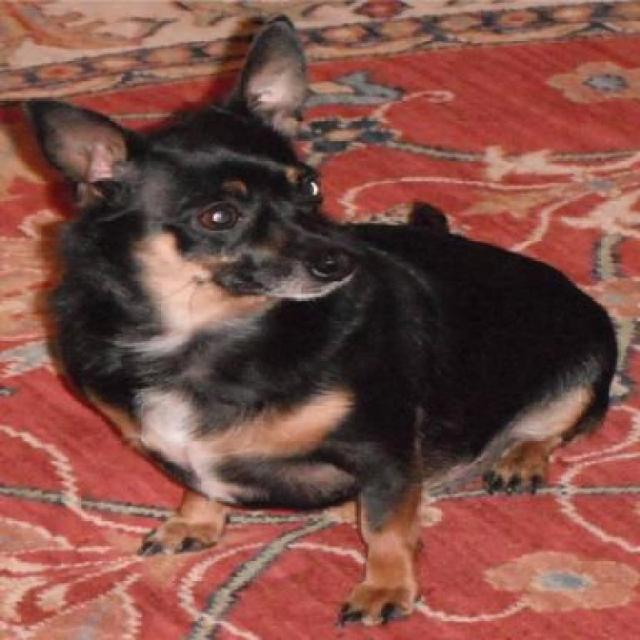Dog: (23, 12, 622, 626)
